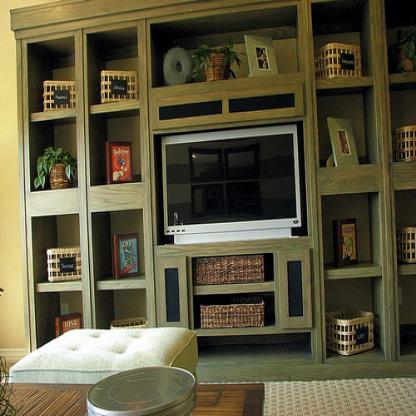pottedplant: (185, 37, 248, 82), (32, 144, 76, 193), (389, 26, 415, 76)
tvmonitor: (160, 122, 302, 245)
